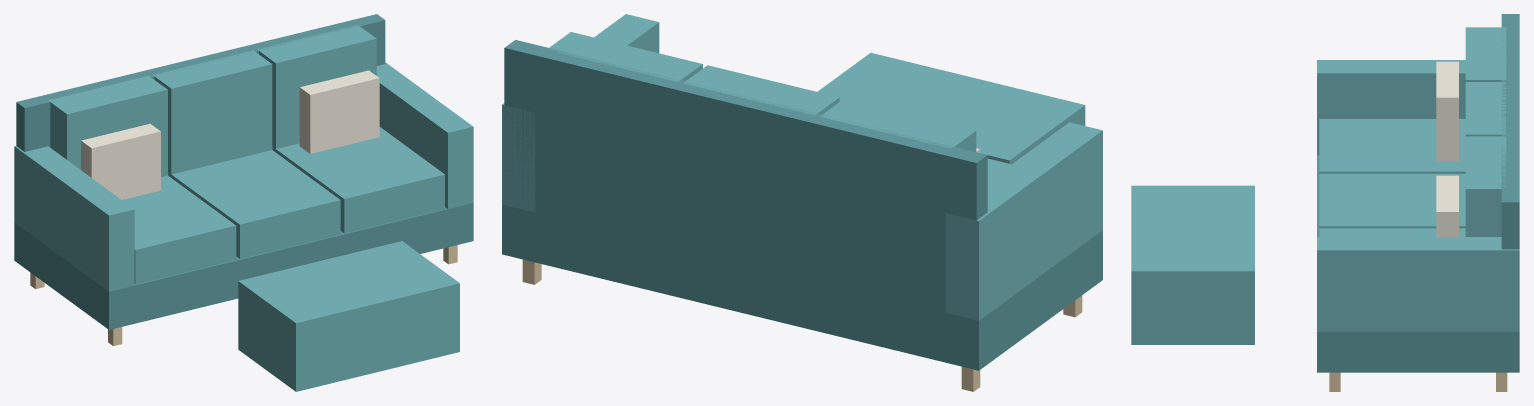
File: sofa_10.glb
The picture shows the model from 3 angles, left to right: view 1: azimuth 30°, elevation 25°; view 2: azimuth 150°, elevation 25°; view 3: azimuth 270°, elevation 25°; orthographic projection. The views are drawn at different scales.
Bounding box in the file's own units: 2 × 0.95 × 1.72.
